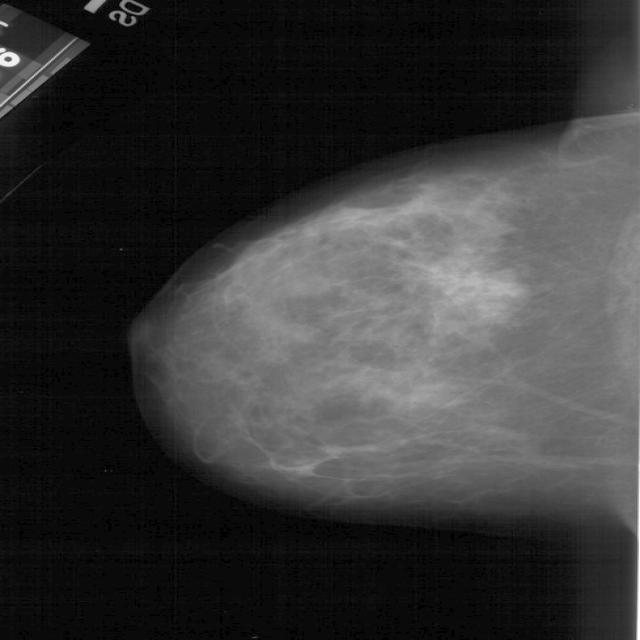tumour: (424, 260, 520, 320)
